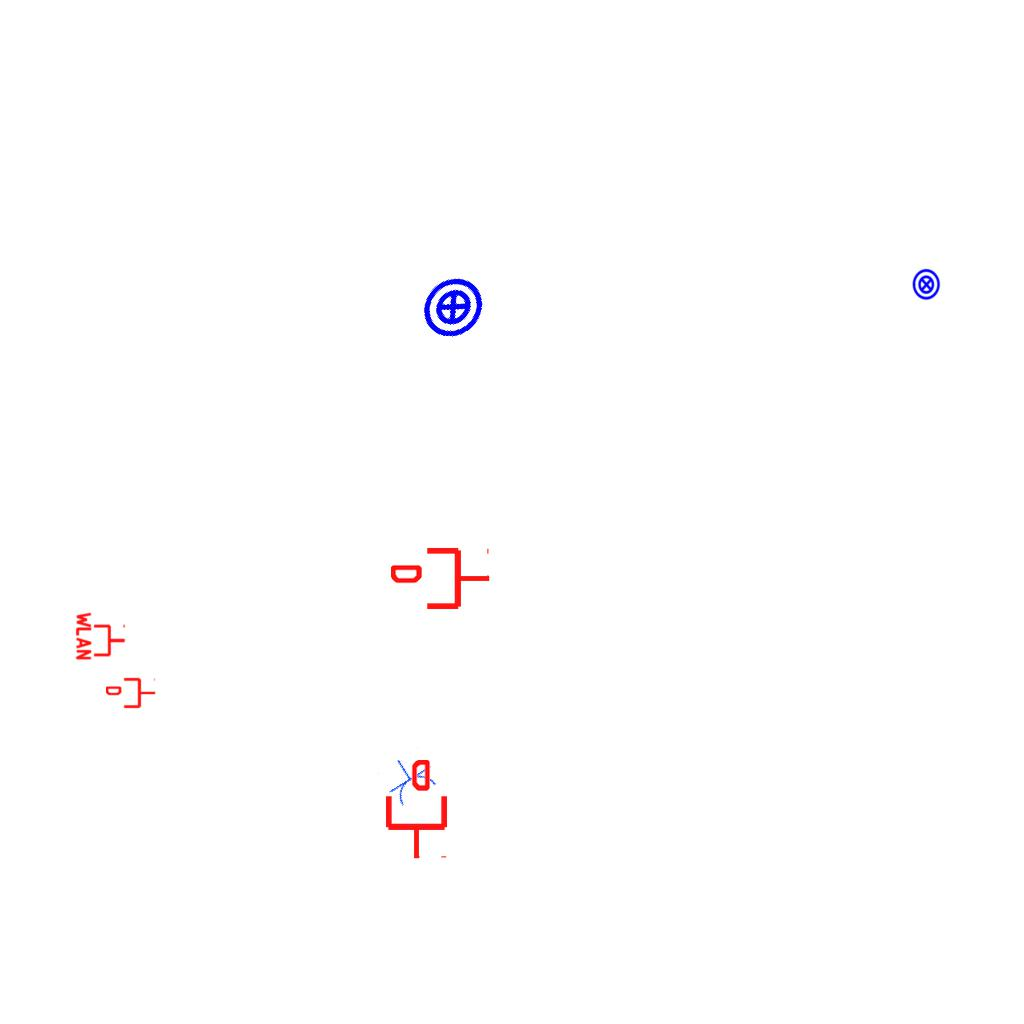Datenanschluss_einfach: (391, 544, 491, 613), (382, 760, 451, 860), (106, 676, 156, 710)
Schukosteckdose_einfach: (376, 747, 442, 810)
Taster_beleuchtet: (406, 260, 500, 354), (910, 268, 943, 301)
WLAN: (75, 610, 127, 662)
